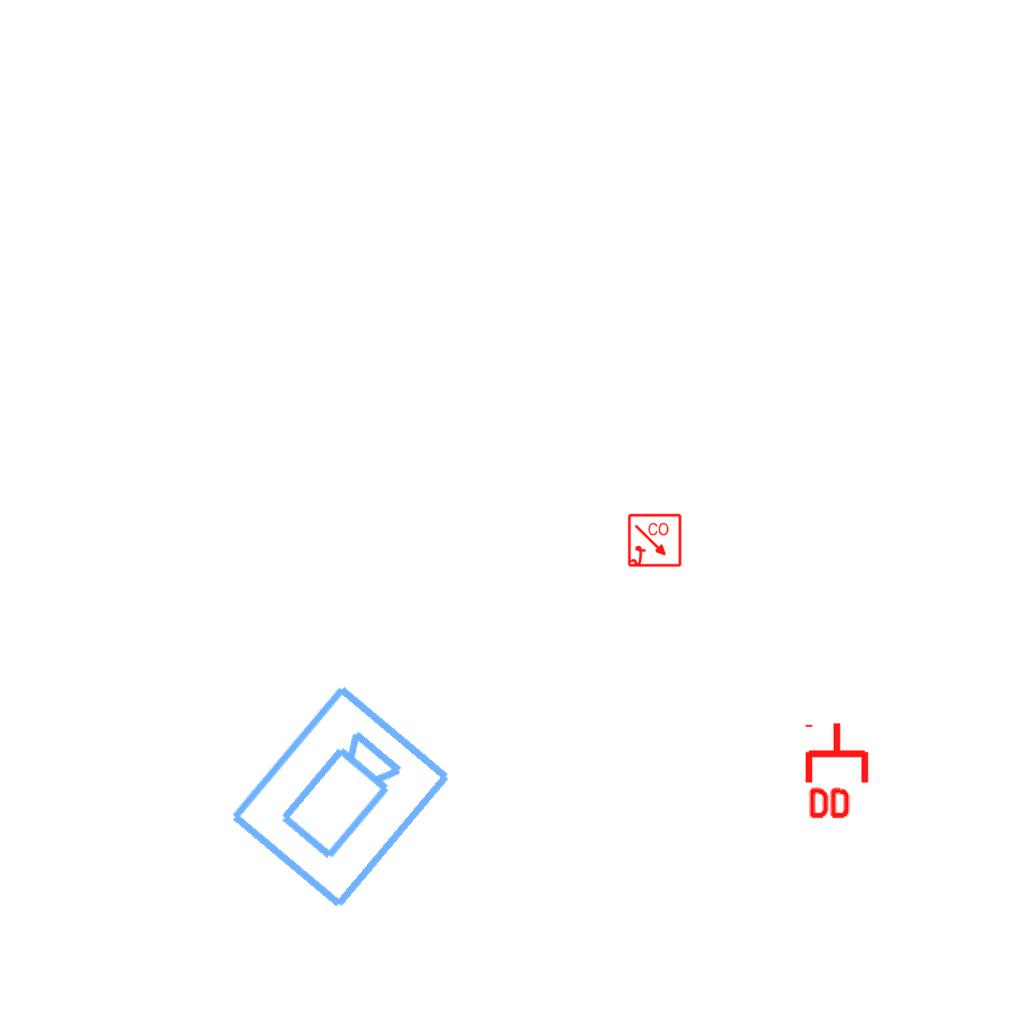Datenanschluss_zweifach: (804, 720, 873, 823)
KFO_Kamera_mit_Festobjektiv: (223, 678, 459, 918)
ROA_Rauchmelder_optisch_mit_Signalgeber_(Sockelsirene): (627, 513, 683, 569)
